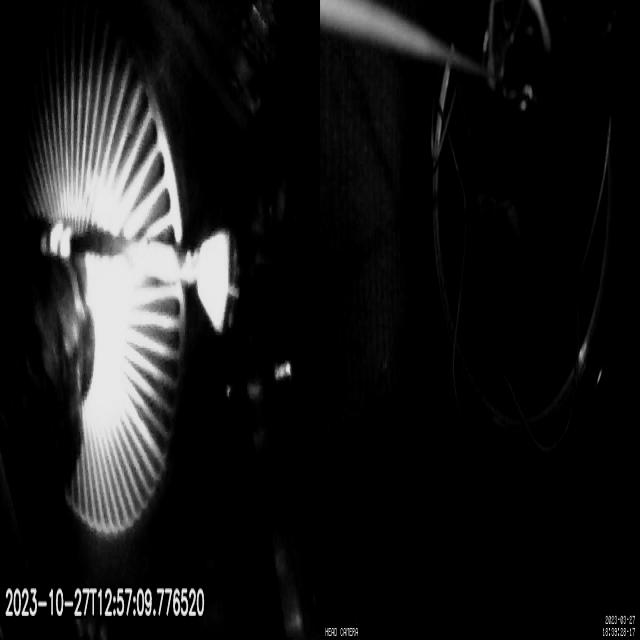head: (197, 229, 240, 336)
white-dots: (40, 219, 72, 262)
